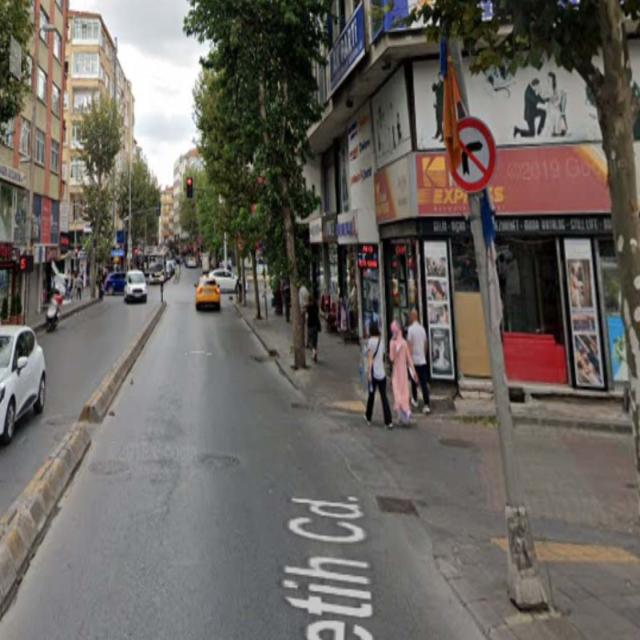sagadonulmez: (443, 119, 499, 193)
